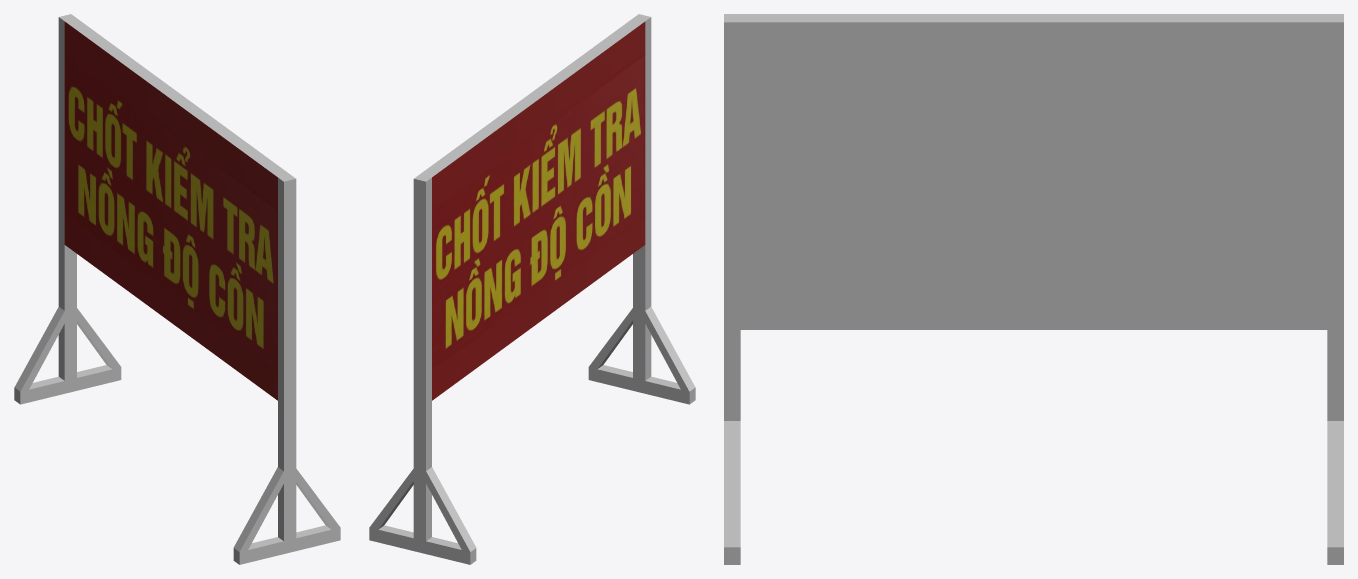
Rendered from GAME-ACOHOL-SIGN.fbx.
3 renders of one model, left to right at view 1: azimuth 30°, elevation 25°; view 2: azimuth 150°, elevation 25°; view 3: azimuth 270°, elevation 25°, orthographic. The views are drawn at different scales.
Parts seen in each view (by area): view 1: Cube; view 2: Cube; view 3: Cube.
Part boxes in pixels (x1=…): Cube: x1=14, y1=14, x2=340, y2=564; Cube: x1=369, y1=14, x2=695, y2=564; Cube: x1=724, y1=14, x2=1343, y2=564.
Bounding box in the file's own units: 113 × 400 × 438.
